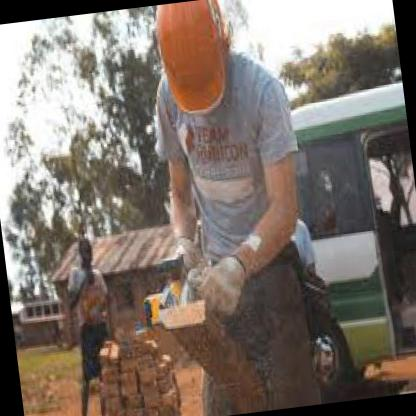Gloves: (196, 254, 252, 320), (173, 236, 200, 272)
